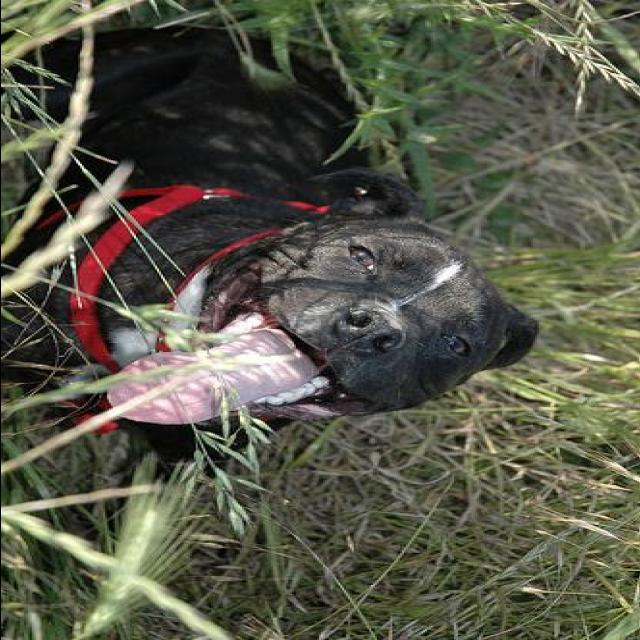staffordshire_bullterrier: (2, 26, 538, 472)
